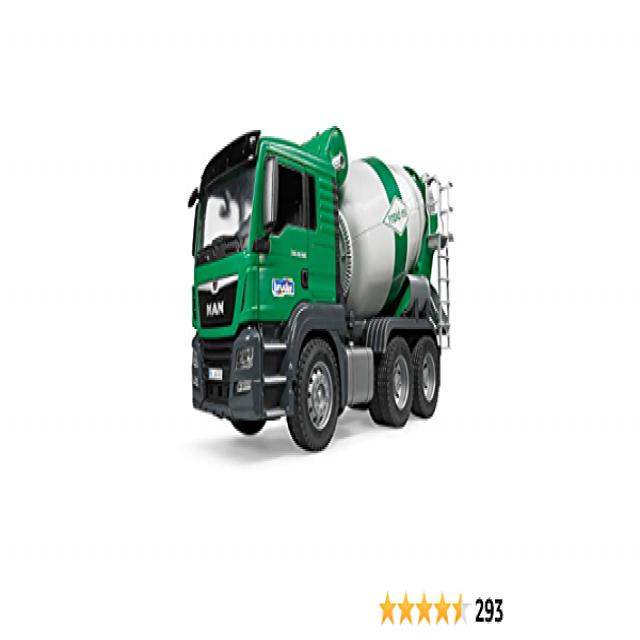Mixer Truck: (192, 124, 453, 452)
